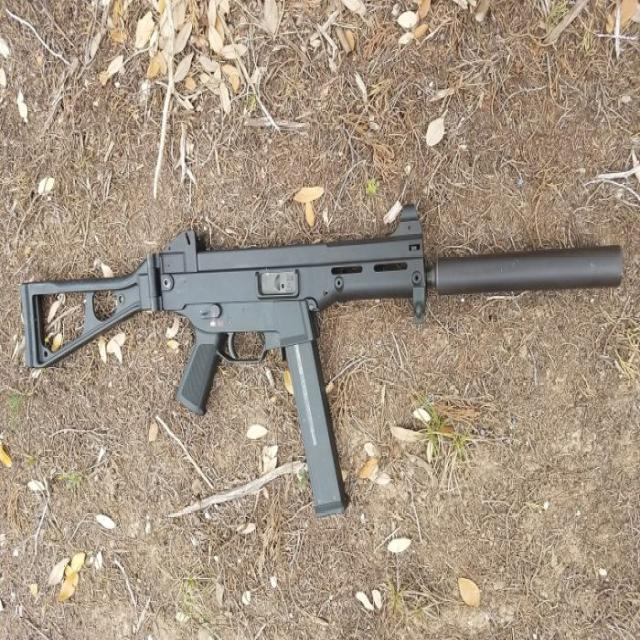SMG: (20, 207, 625, 519)
